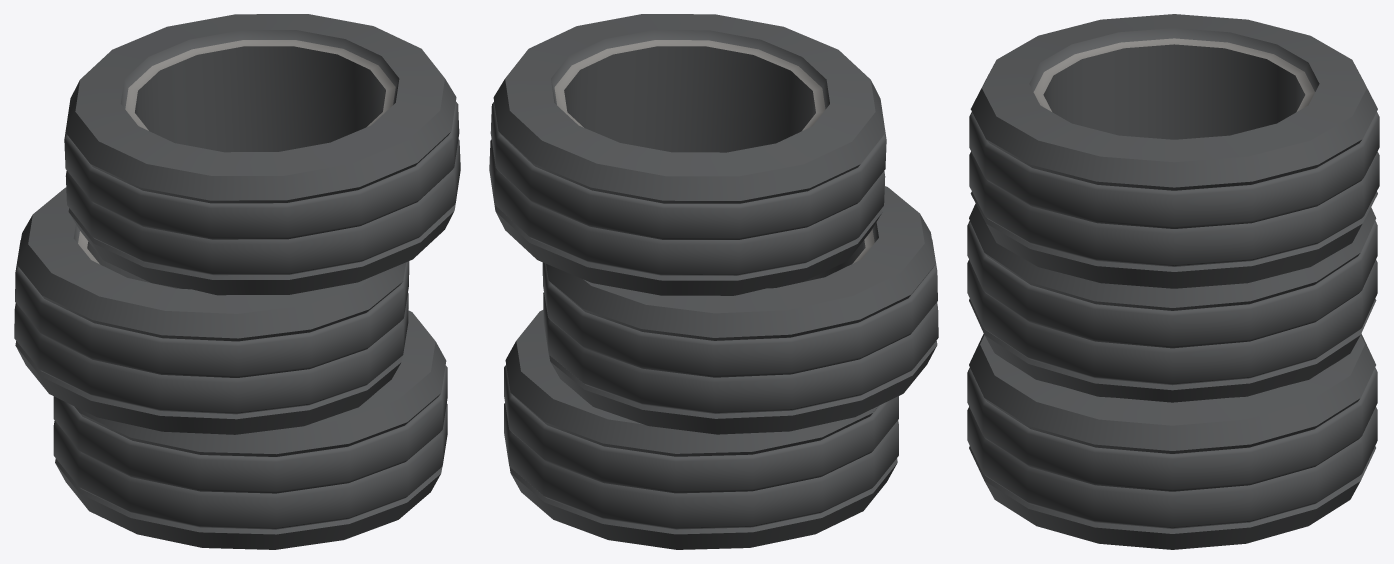
Rendered from prop_wheels_stack.glb.
3 views of the same model, side by side, from view 1: azimuth 30°, elevation 25°; view 2: azimuth 150°, elevation 25°; view 3: azimuth 270°, elevation 25° (orthographic). The views are drawn at different scales.
Visible parts, largest first — view 1: Wheels_Stack; view 2: Wheels_Stack; view 3: Wheels_Stack.
Boxes of the visible parts, left/top/right/bottom form: Wheels_Stack: left=14, top=14, right=460, bottom=549; Wheels_Stack: left=489, top=14, right=938, bottom=549; Wheels_Stack: left=967, top=14, right=1379, bottom=549.
Size of the model in its own units: 0.6576 by 0.6114 by 0.5719.
Materials: 1 (1 with a texture image).
